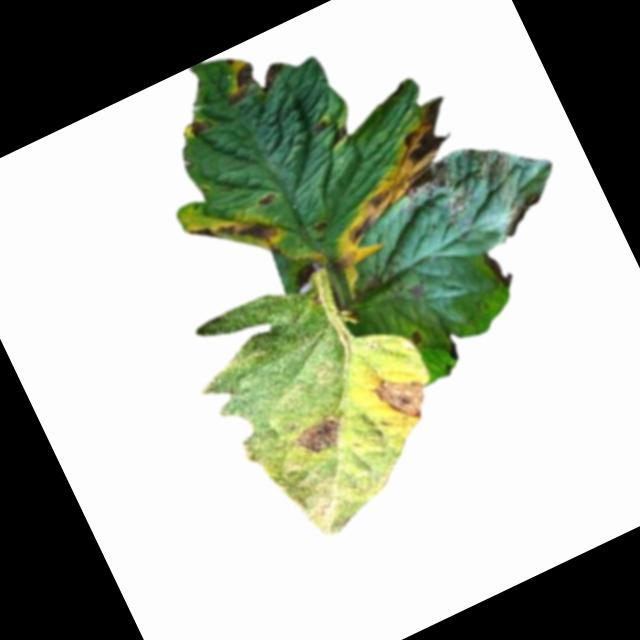Early_blight: (290, 94, 493, 273), (400, 134, 522, 234), (186, 196, 283, 274), (216, 48, 294, 113), (369, 362, 436, 432), (496, 190, 553, 239), (295, 414, 349, 459), (480, 246, 519, 292), (186, 116, 211, 142), (260, 193, 279, 209), (408, 329, 424, 347)
